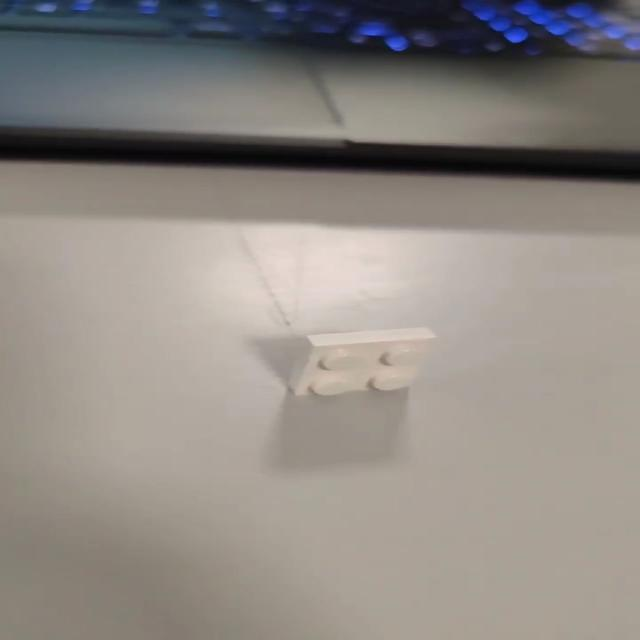C2x2x0: (282, 326, 437, 402)
